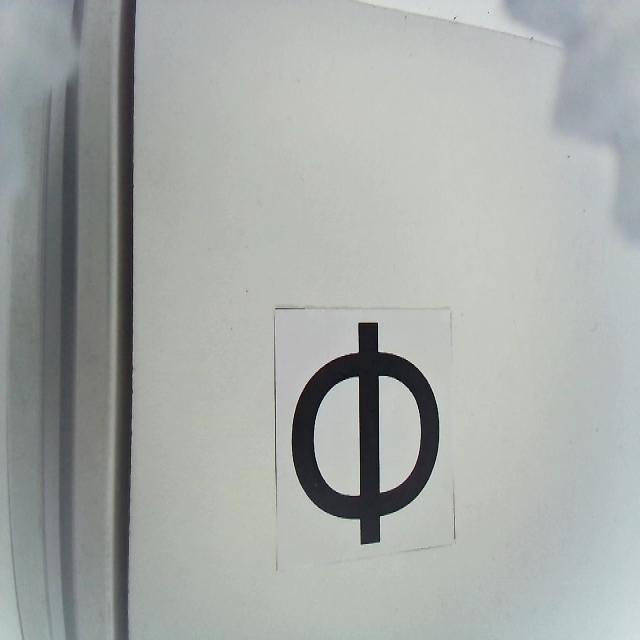F: (291, 323, 439, 547)
